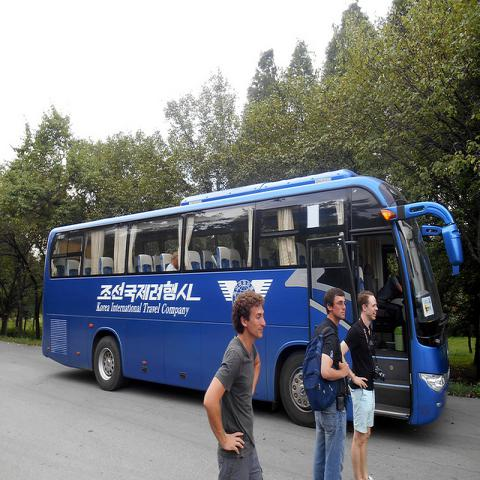bus: (41, 165, 465, 426)
